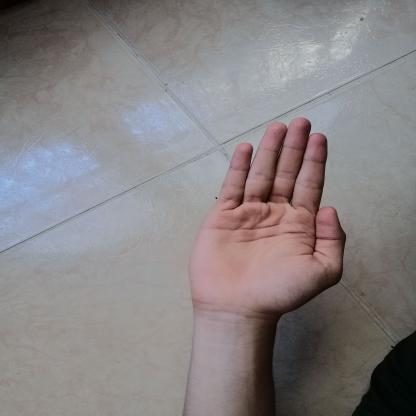SEEN: (176, 106, 358, 330)
